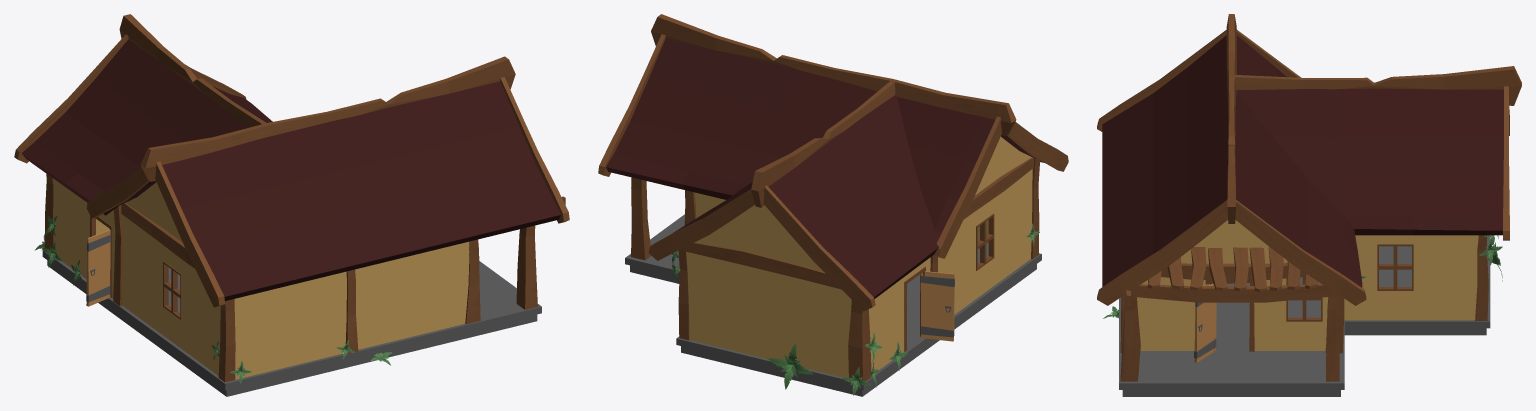
The model's file is House_improved.fbx.
3 renders of one model, left to right at view 1: azimuth 30°, elevation 25°; view 2: azimuth 150°, elevation 25°; view 3: azimuth 270°, elevation 25°, orthographic. The views are drawn at different scales.
Visible parts, largest first — view 1: Grass; view 2: Grass; view 3: Grass.
Part boxes in pixels (x1,y1,x2,y2): Grass: (14, 14, 569, 396); Grass: (598, 14, 1068, 396); Grass: (1097, 14, 1521, 396).
Bounding box in the file's own units: 1195 × 688 × 1167.
3 materials, 3 textured.
